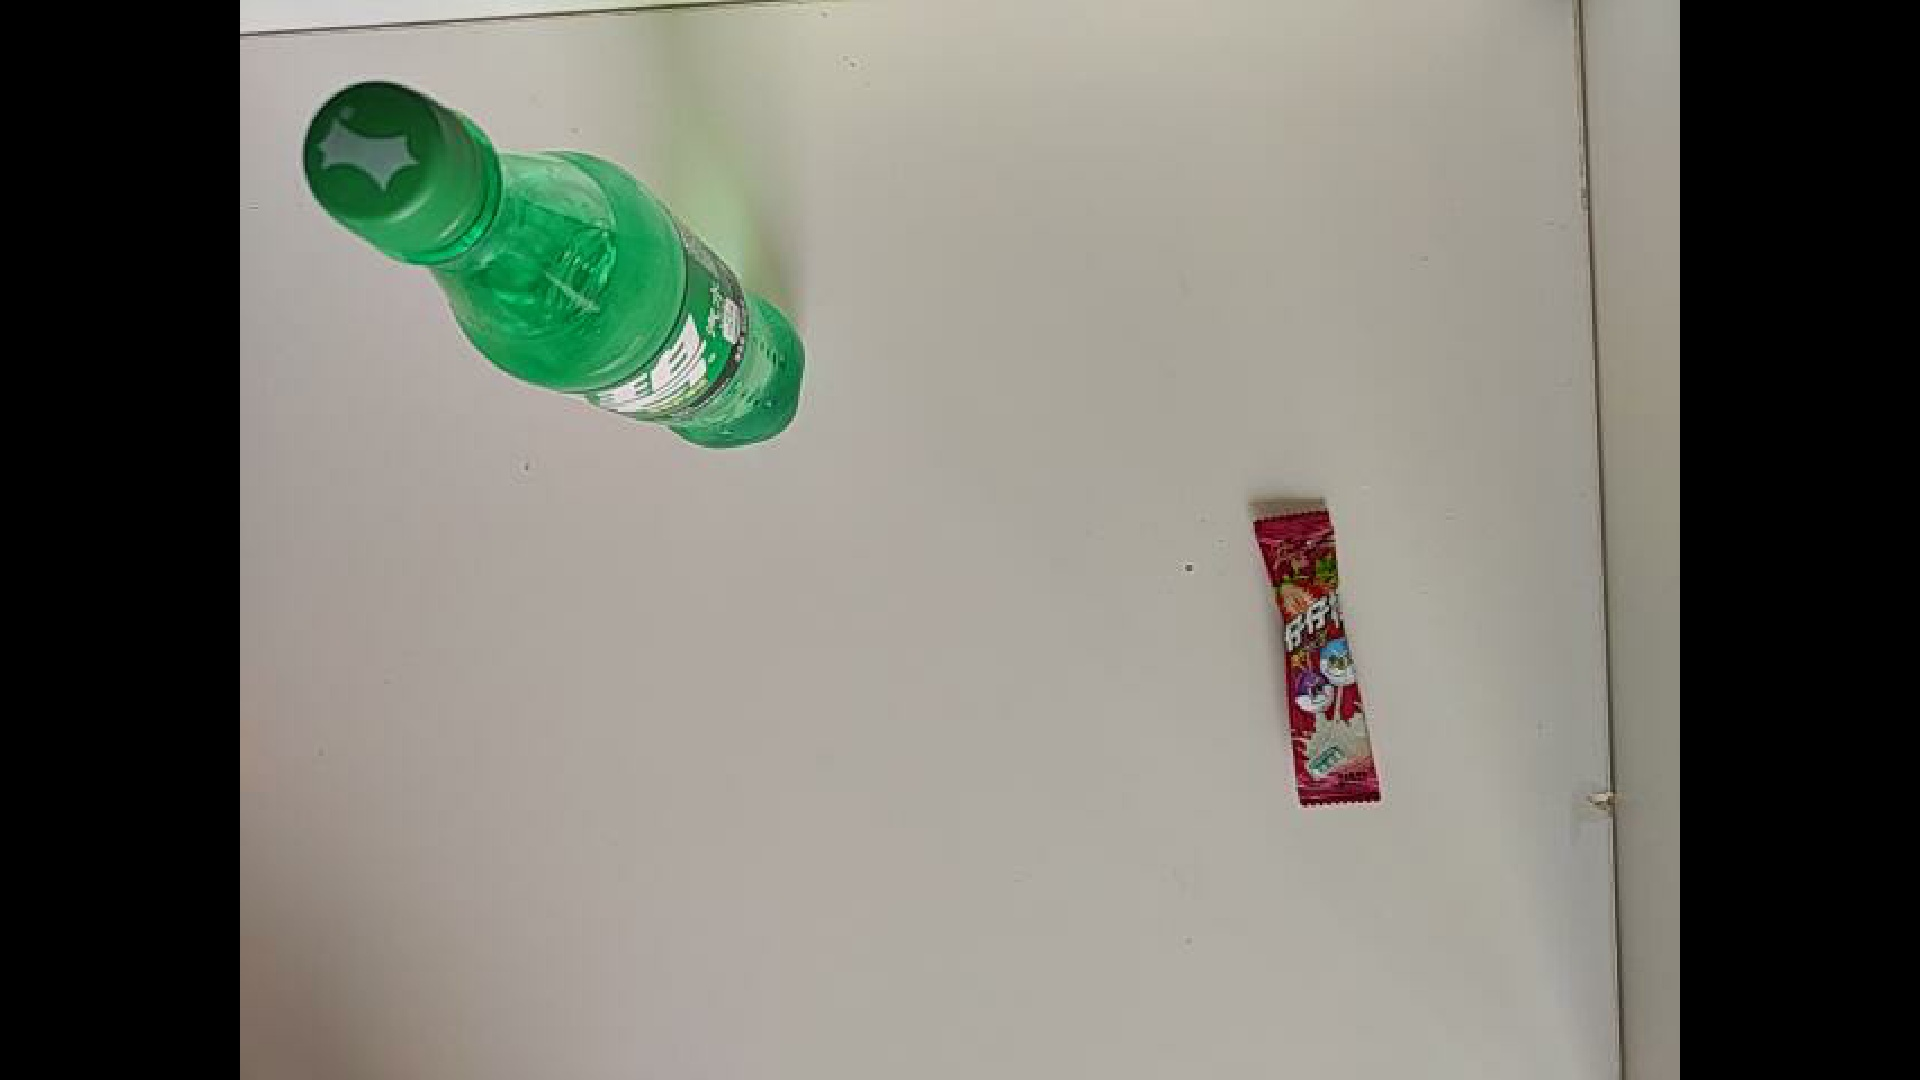sprite: (301, 79, 806, 451)
sugar: (1249, 508, 1412, 816)
